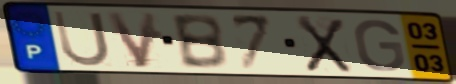7: (230, 12, 274, 73)
B: (167, 13, 230, 72)
G: (351, 17, 408, 74)
U: (50, 9, 113, 68)
V: (102, 10, 160, 70)
X: (293, 14, 354, 75)
